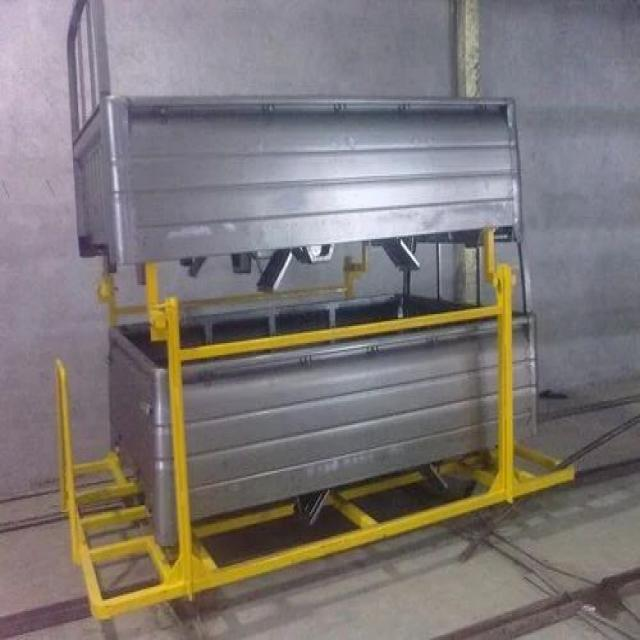broyeur: (69, 440, 607, 626)
